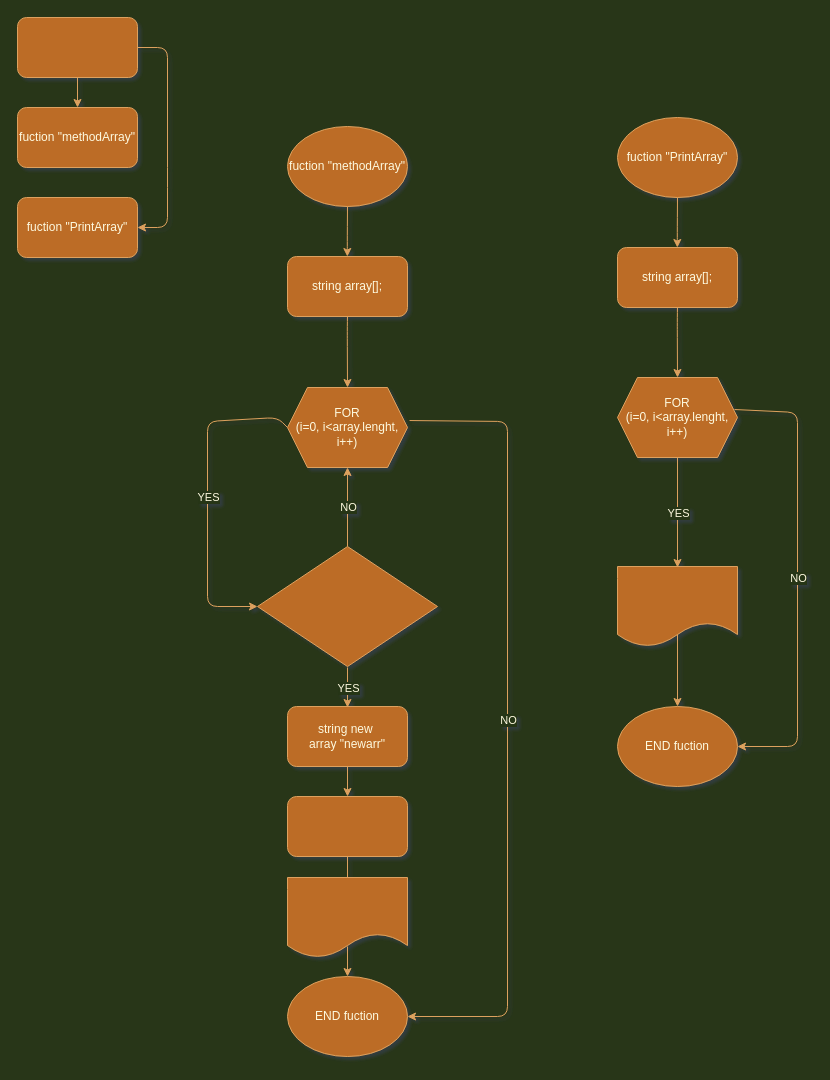
Image size: 830x1080. Some labels were removed from this diagram. The centre of each missing label's shape, as x and y in pixels:
if (array [i].lenght<=3: [347,606]
newarr[i] = array[i];: [347,826]
print array[i];: [677,606]
print newarr[i];: [347,917]
string array: [77,47]
